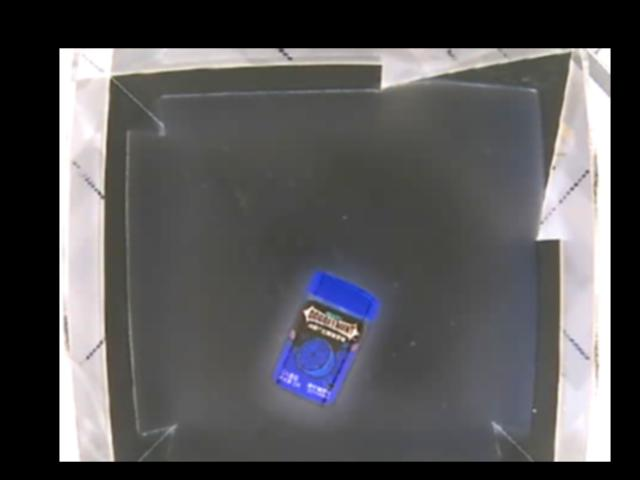Bottle: (266, 270, 378, 407)
